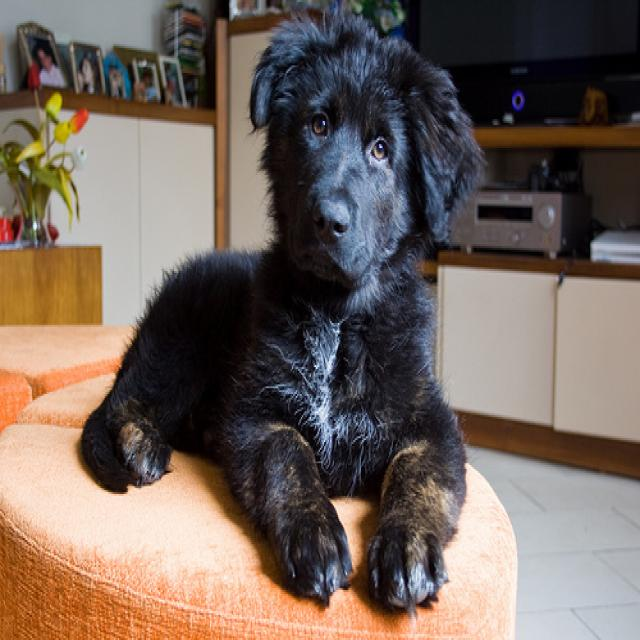dog-newfoundland: (74, 13, 477, 623)
